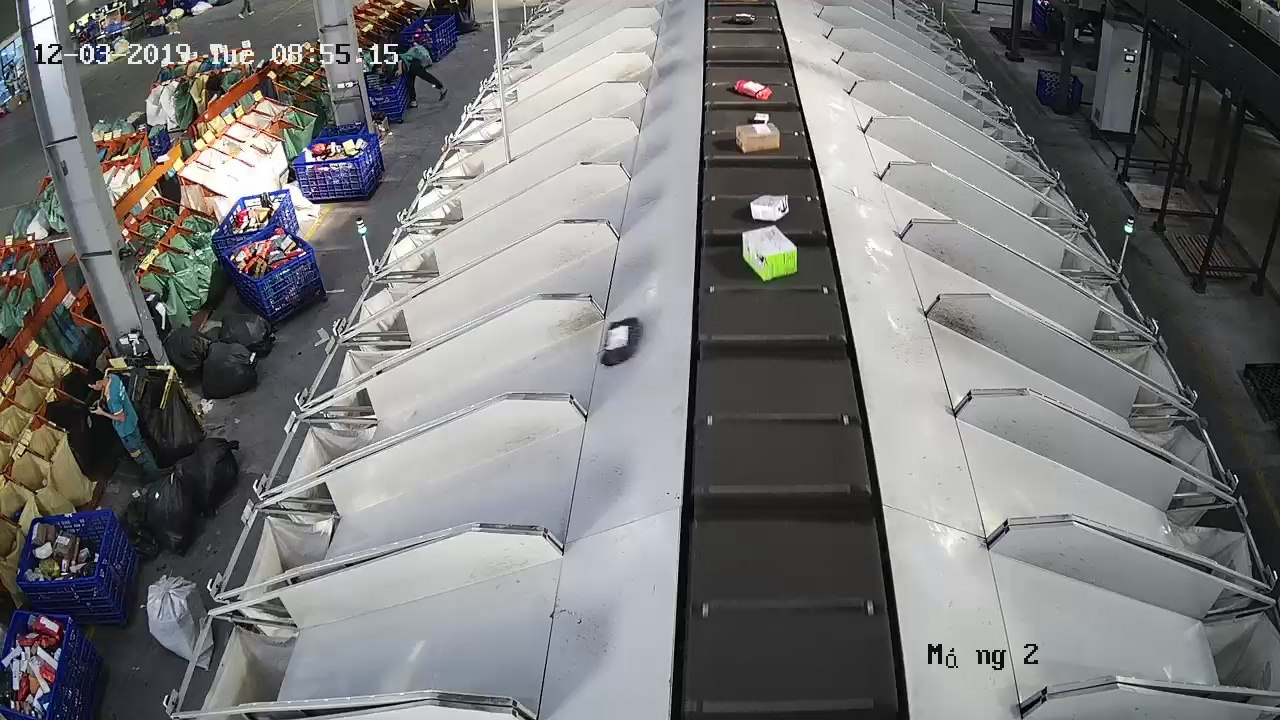parcel: (741, 224, 799, 282), (599, 316, 643, 367), (749, 193, 790, 222)
